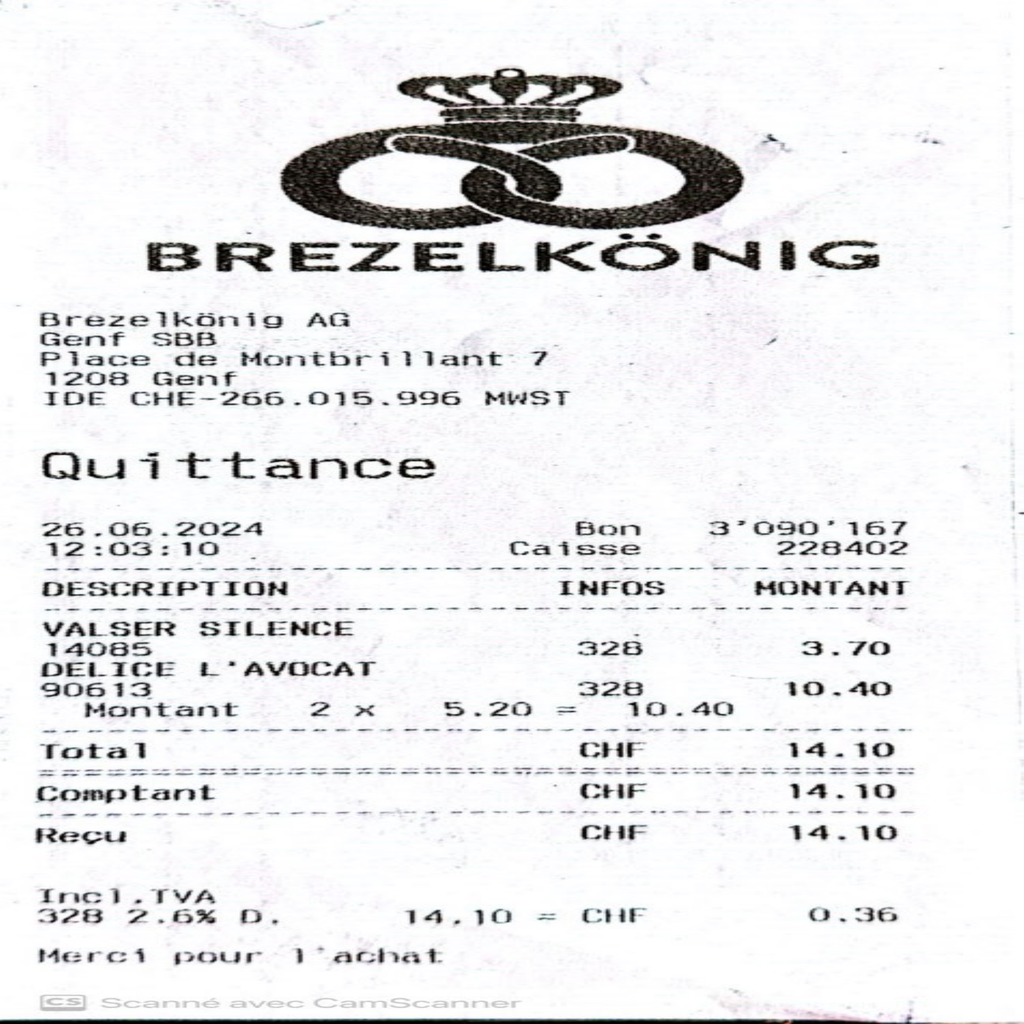recipt: (0, 4, 1022, 1018)
